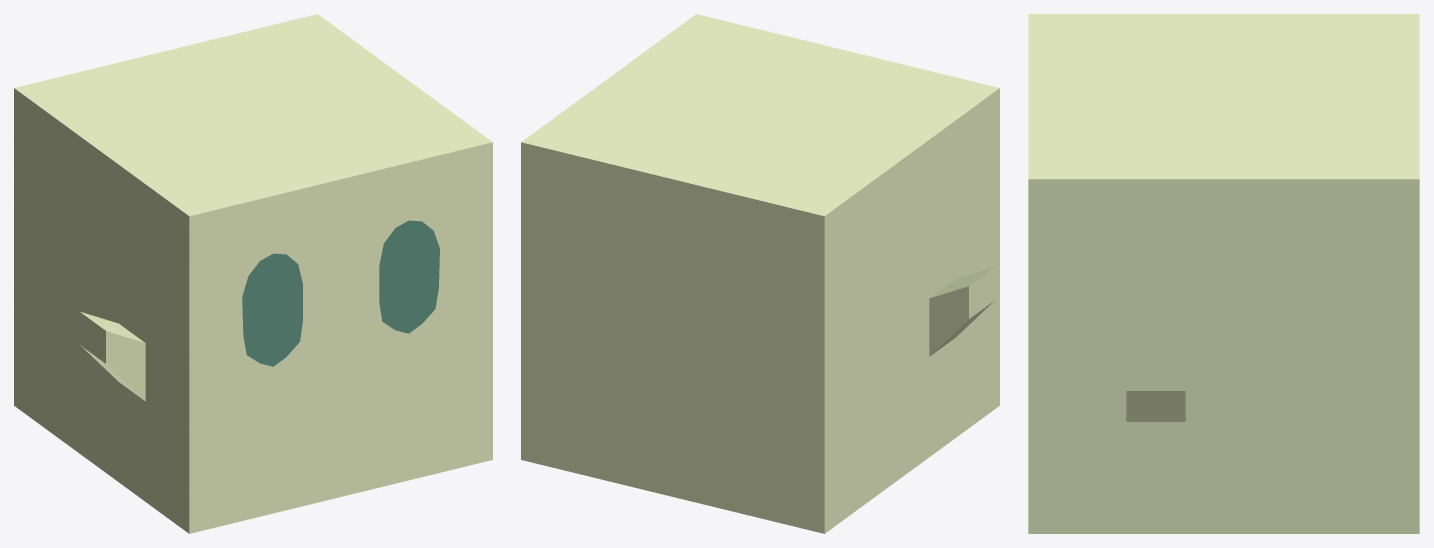
Rendered from new_cube_minion.dae.
The picture shows the model from 3 angles, left to right: view 1: azimuth 30°, elevation 25°; view 2: azimuth 150°, elevation 25°; view 3: azimuth 270°, elevation 25°; orthographic projection. The views are drawn at different scales.
Parts seen in each view (by area): view 1: Cube; view 2: Cube; view 3: Cube.
Boxes of the visible parts, box(x1,y1,x2,y2) form: Cube: box(14, 14, 492, 533); Cube: box(521, 14, 999, 533); Cube: box(1028, 14, 1419, 533).
Size of the model in its own units: 2.52 by 2 by 2.
Materials: 2 (2 with a texture image).
